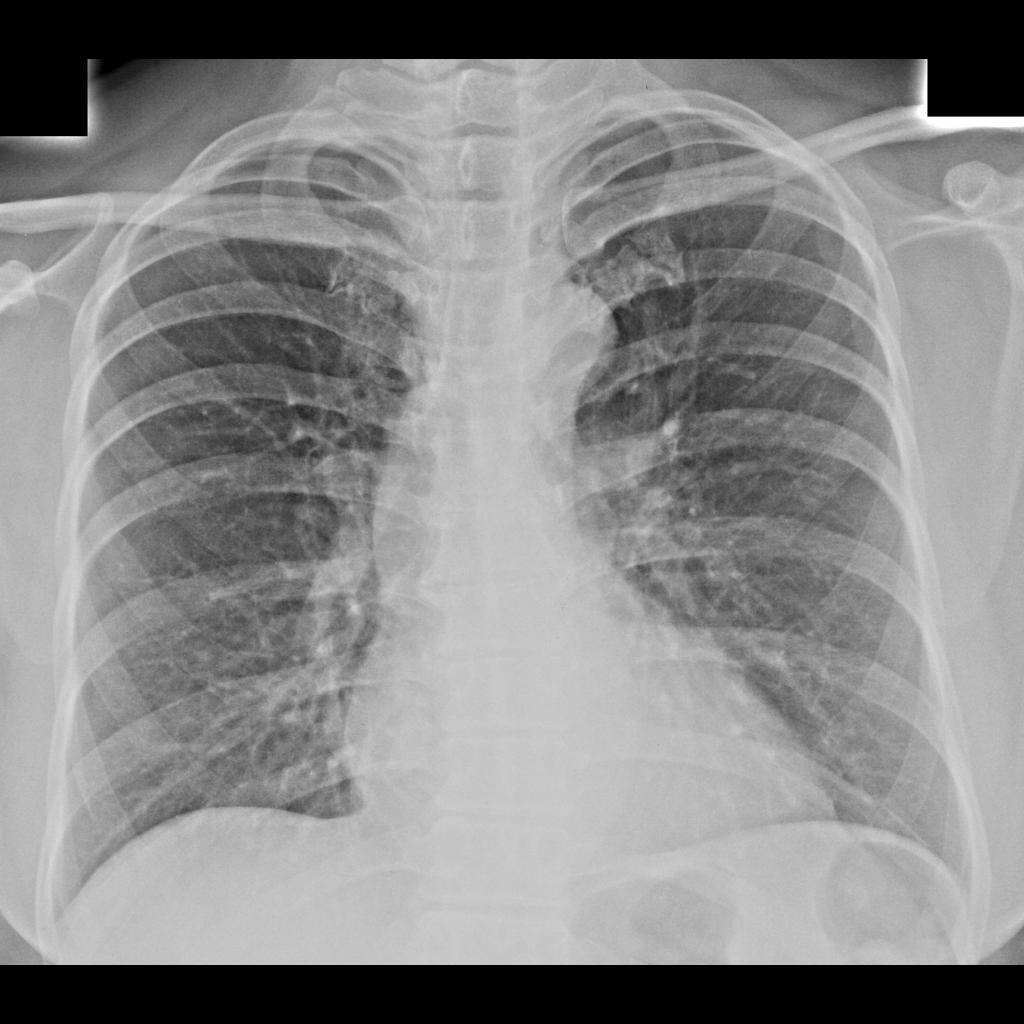Nodule: (352, 697, 451, 796)
